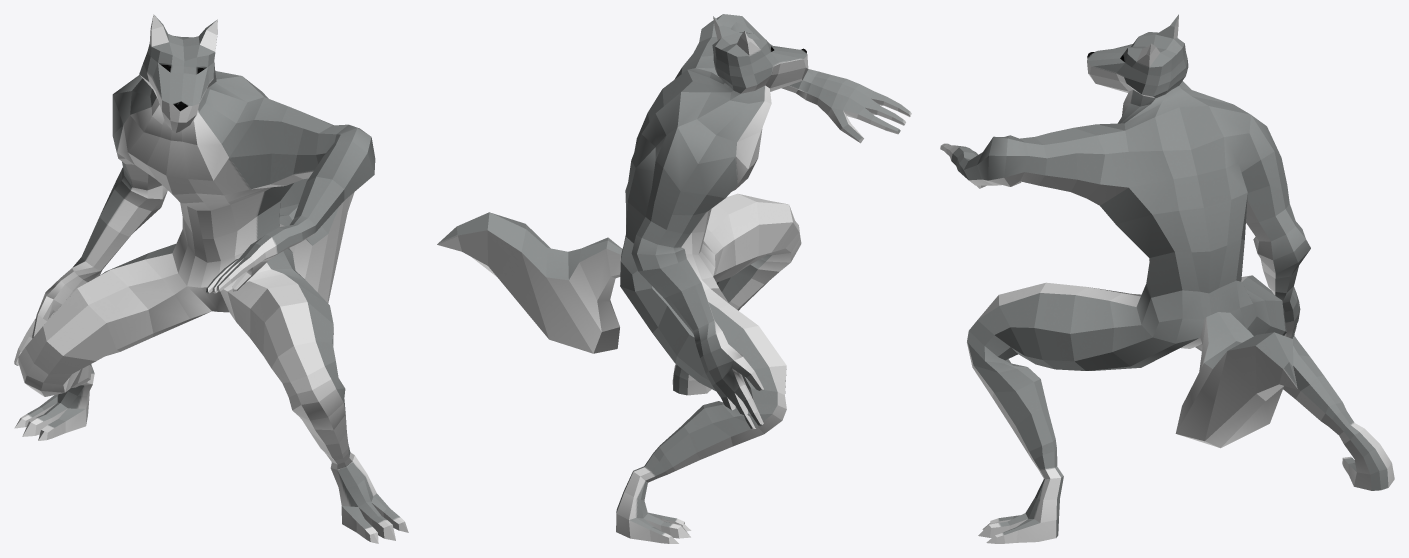
Rendered from WolfAttack(19).obj.
The picture shows the model from 3 angles, left to right: view 1: azimuth 30°, elevation 25°; view 2: azimuth 150°, elevation 25°; view 3: azimuth 270°, elevation 25°; orthographic projection. The views are drawn at different scales.
Visible parts, largest first — view 1: Box001; view 2: Box001; view 3: Box001.
Part boxes in pixels (x1,y1,x2,y2): Box001: (14, 14, 408, 543); Box001: (437, 14, 911, 543); Box001: (940, 14, 1394, 543).
Bounding box in the file's own units: 96.36 × 122 × 109.
